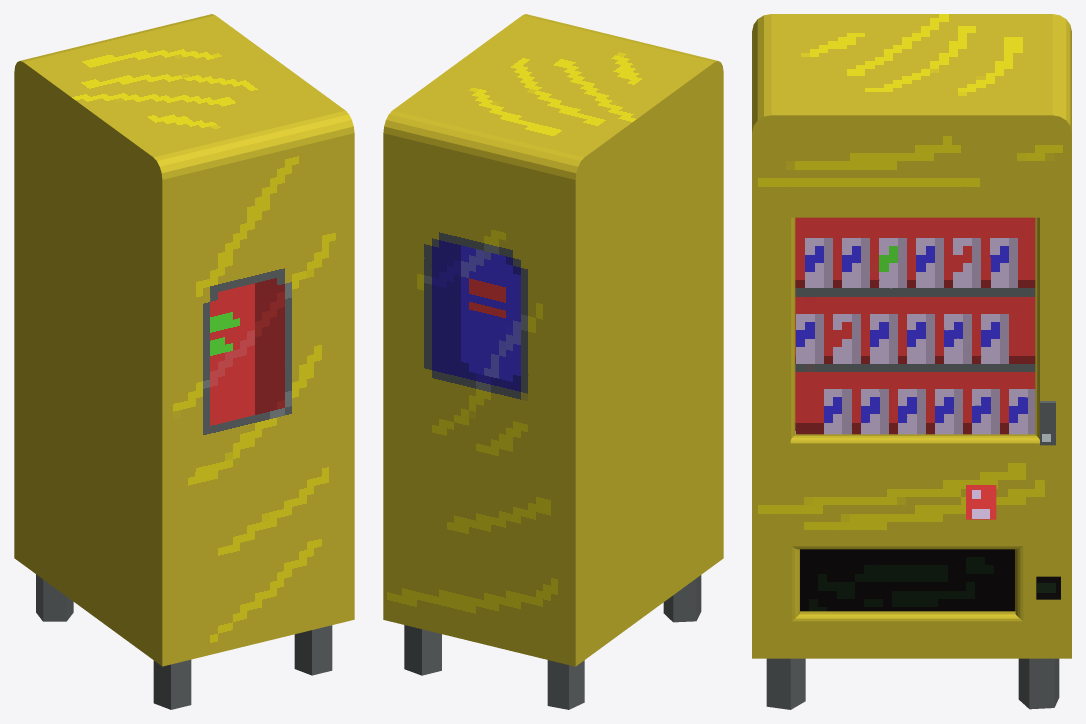
The model's file is vendo.gltf.
The picture shows the model from 3 angles, left to right: view 1: azimuth 30°, elevation 25°; view 2: azimuth 150°, elevation 25°; view 3: azimuth 270°, elevation 25°; orthographic projection. The views are drawn at different scales.
Visible parts, largest first — view 1: vendo-col; view 2: vendo-col; view 3: vendo-col.
Boxes of the visible parts, x1=… form: vendo-col: x1=14, y1=14, x2=354, y2=709; vendo-col: x1=383, y1=14, x2=723, y2=709; vendo-col: x1=752, y1=14, x2=1071, y2=709.
Bounding box in the file's own units: 1.57 × 4.14 × 2.
Materials: 1 (1 with a texture image).
